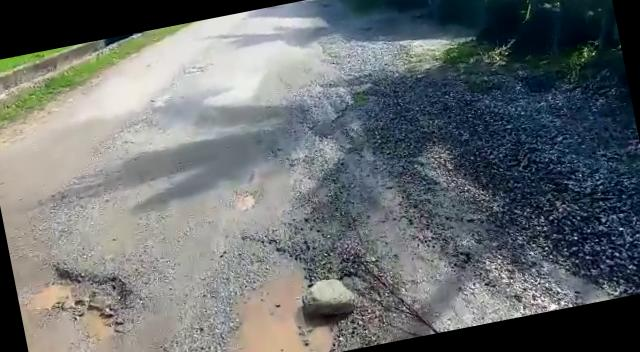pothole: (201, 245, 342, 352), (17, 252, 137, 352)
